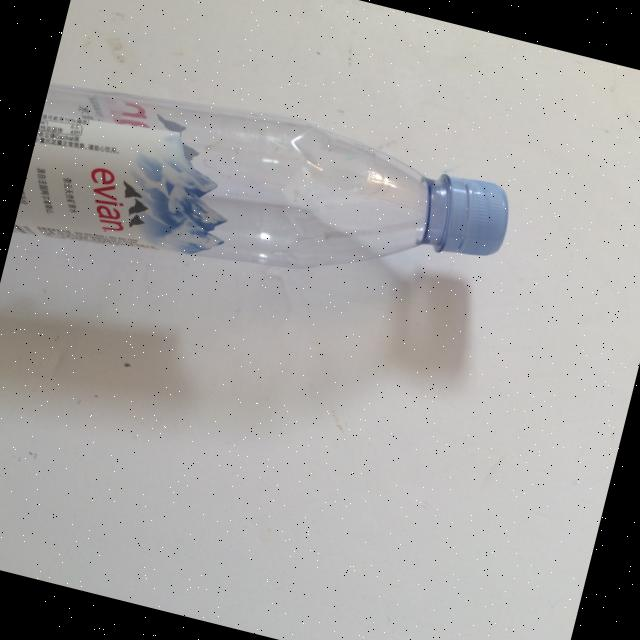plastic: (13, 56, 520, 347)
